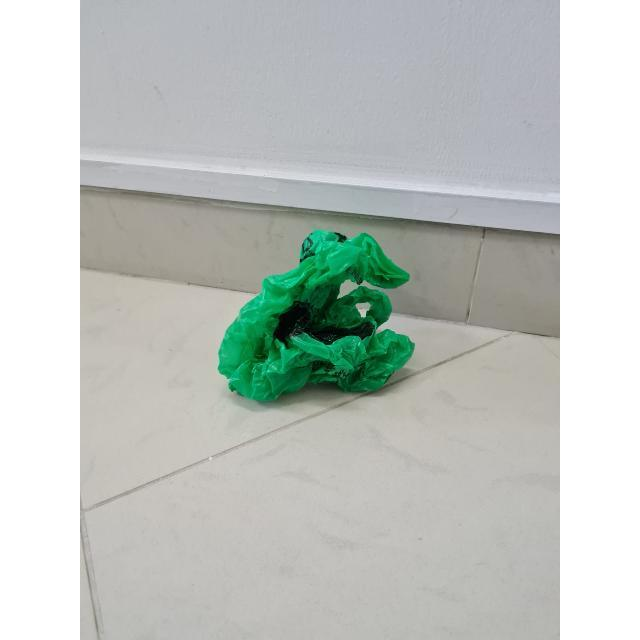Bolsa-de-nilon: (219, 230, 414, 401)
